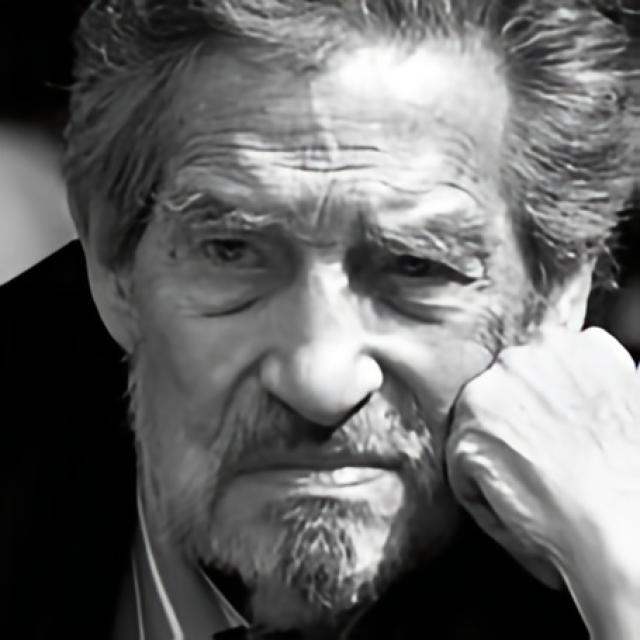anger: (122, 89, 540, 624)
